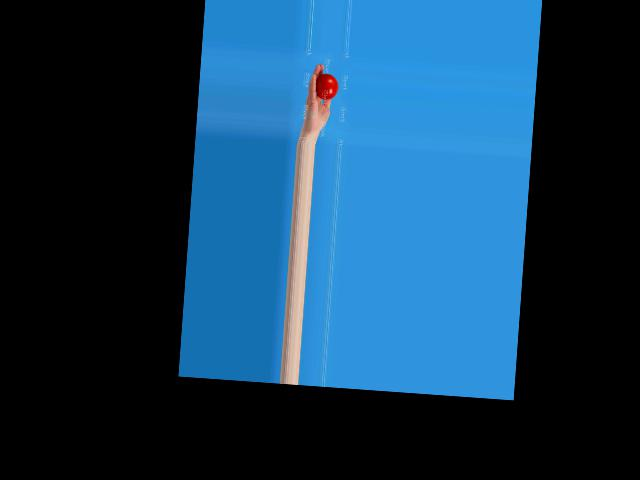tomato: (315, 73, 338, 100)
